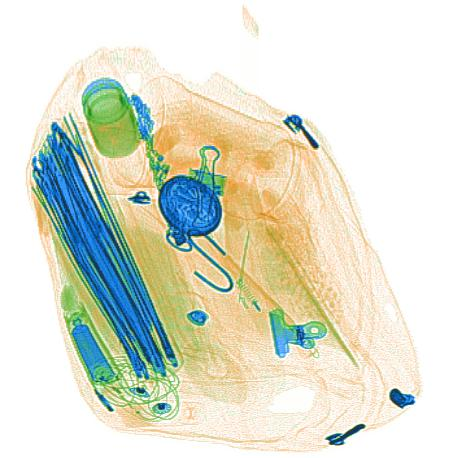battery: (69, 321, 112, 383)
